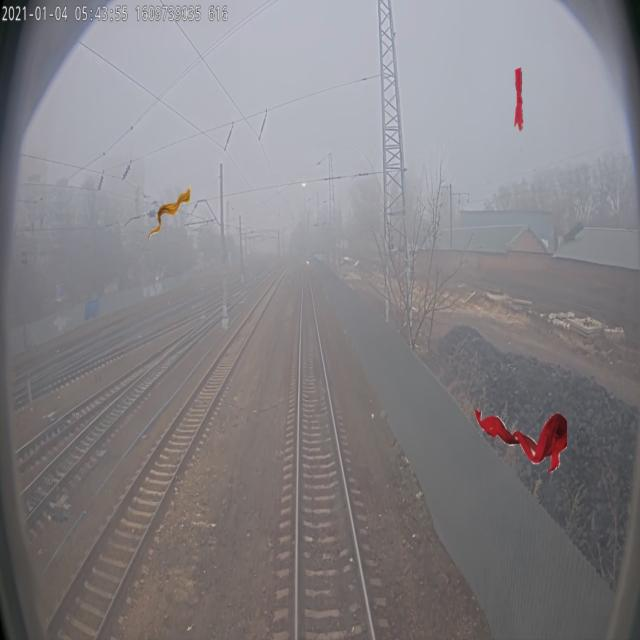floating object: (471, 392, 583, 488), (147, 180, 191, 244), (514, 67, 523, 131)
